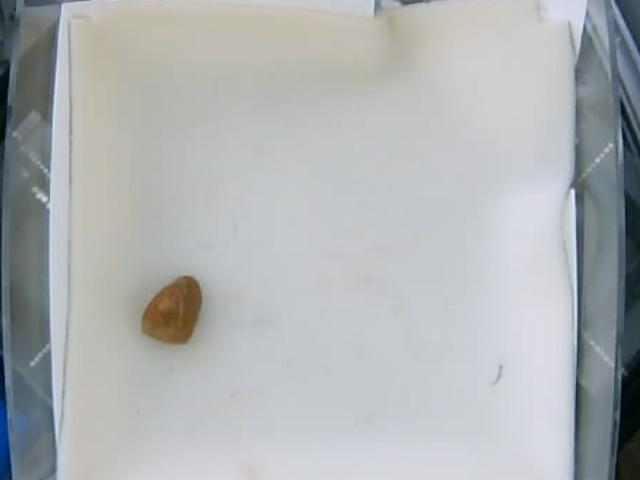Pebble: (141, 273, 201, 347)
